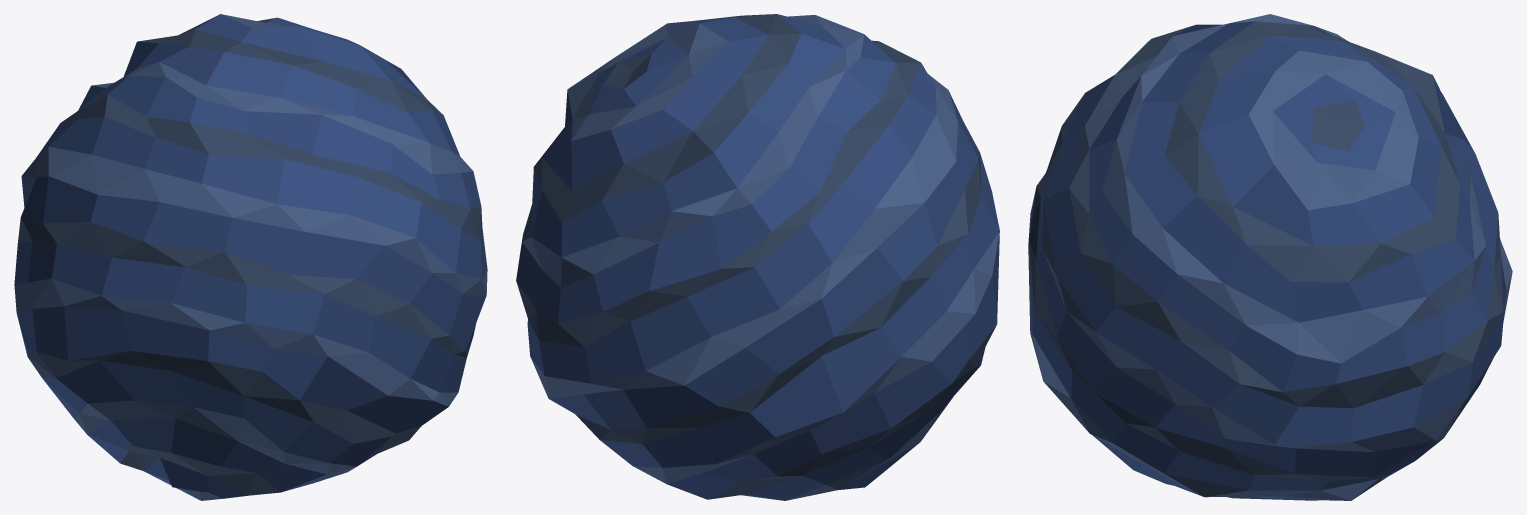
File: Neptune.fbx
3 renders of one model, left to right at view 1: azimuth 30°, elevation 25°; view 2: azimuth 150°, elevation 25°; view 3: azimuth 270°, elevation 25°, orthographic. The views are drawn at different scales.
Visible parts, largest first — view 1: Neptune; view 2: Neptune; view 3: Neptune.
Boxes of the visible parts, <box> form: Neptune: <box>14,14,487,500</box>; Neptune: <box>516,14,999,500</box>; Neptune: <box>1028,14,1512,500</box>.
Bounding box in the file's own units: 302 × 307 × 313.
